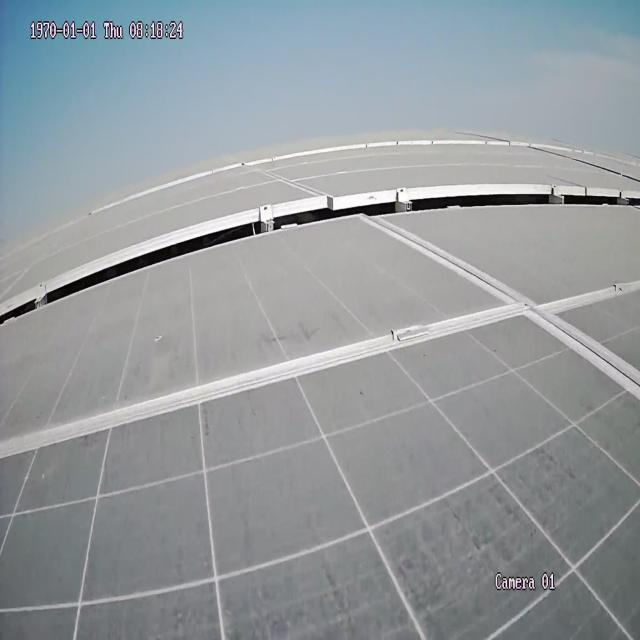interior panel: (1, 220, 640, 459)
outher panel: (0, 184, 638, 325)
